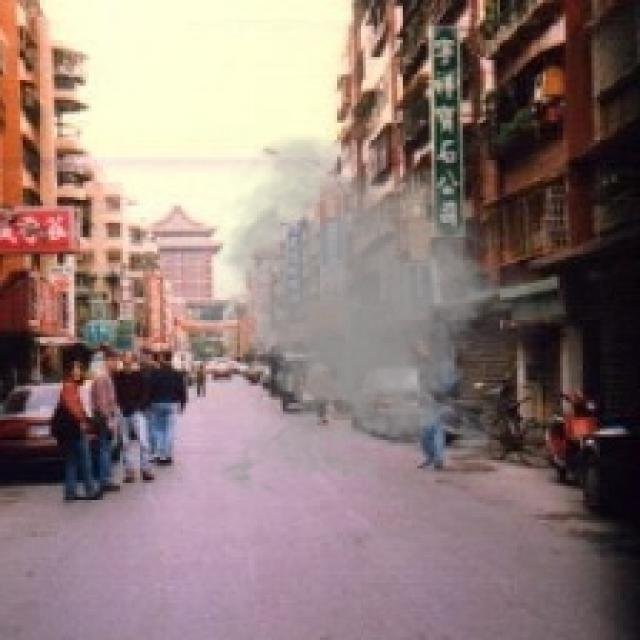Smoke: (159, 128, 552, 506)
